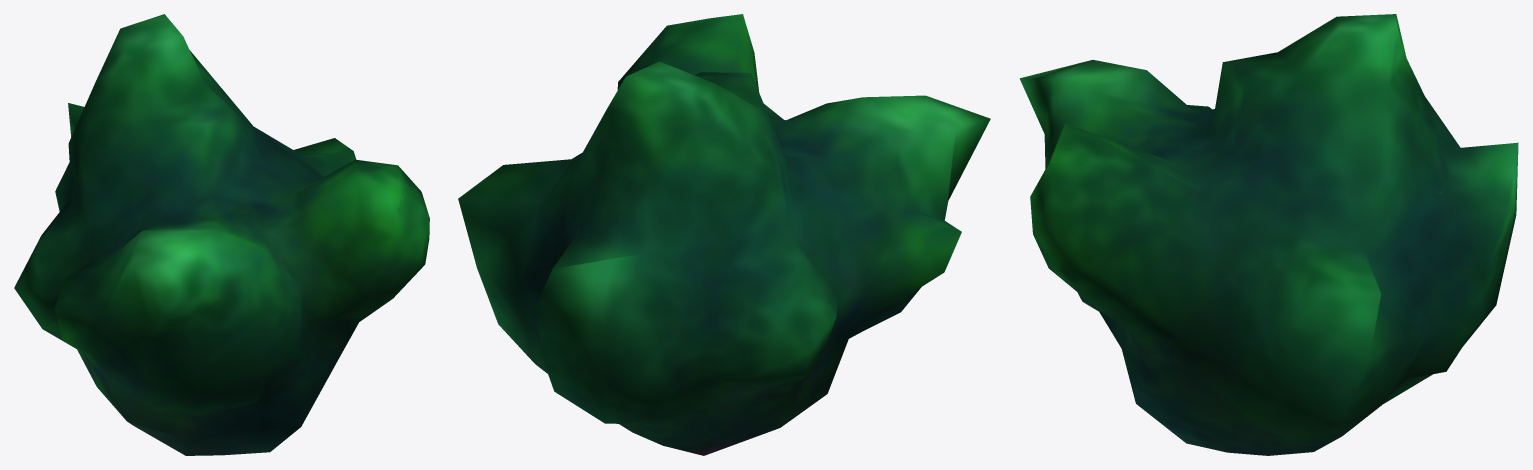
The model's file is Bush3_DEFAULT.dae.
The picture shows the model from 3 angles, left to right: view 1: azimuth 30°, elevation 25°; view 2: azimuth 150°, elevation 25°; view 3: azimuth 270°, elevation 25°; orthographic projection. The views are drawn at different scales.
Parts seen in each view (by area): view 1: mesh0; view 2: mesh0; view 3: mesh0.
Boxes of the visible parts, bbox=[...] form: mesh0: bbox=[14, 14, 429, 455]; mesh0: bbox=[458, 14, 990, 455]; mesh0: bbox=[1019, 14, 1518, 455].
Bounding box in the file's own units: 0.7222 × 0.7235 × 0.7596.
